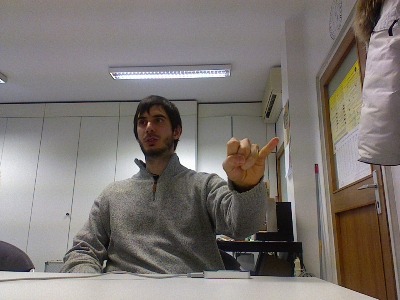小指: (220, 136, 280, 188)
